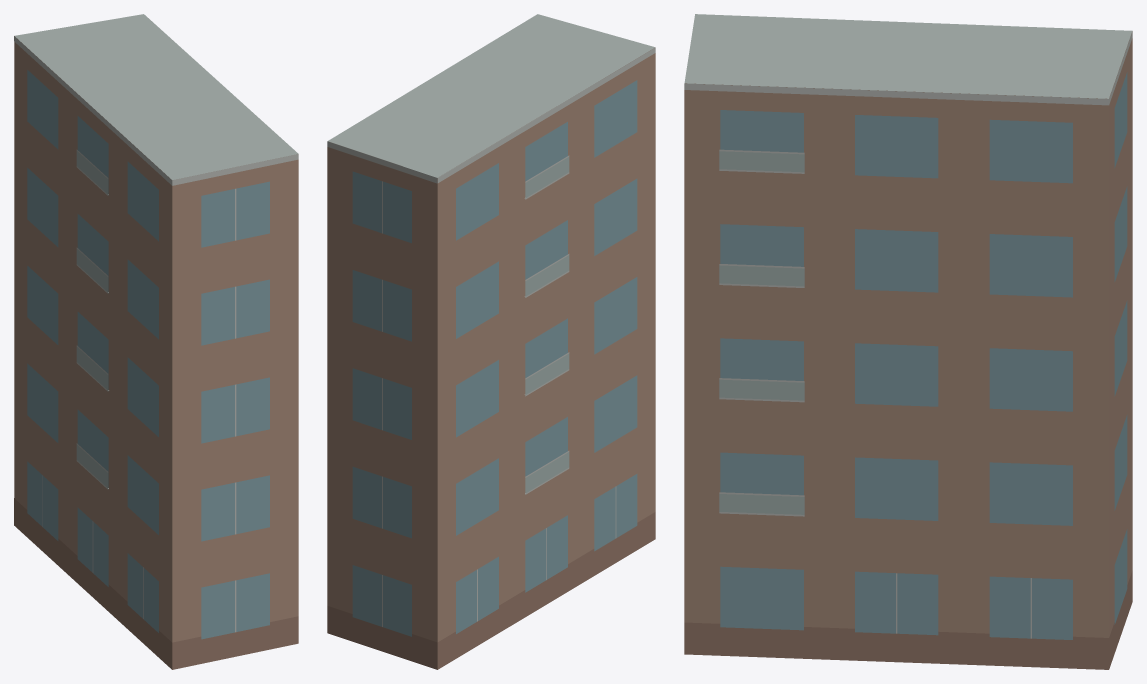
File: survey-upis-32732217.glb
3 renders of one model, left to right at view 1: azimuth 30°, elevation 25°; view 2: azimuth 150°, elevation 25°; view 3: azimuth 270°, elevation 25°, orthographic. The views are drawn at different scales.
Parts seen in each view (by area): view 1: survey-upis-32732217.tmp; view 2: survey-upis-32732217.tmp; view 3: survey-upis-32732217.tmp.
Boxes of the visible parts, x1,y1,x2,y2 form: survey-upis-32732217.tmp: (14, 14, 298, 669); survey-upis-32732217.tmp: (327, 14, 655, 669); survey-upis-32732217.tmp: (684, 14, 1132, 669).
Bounding box in the file's own units: 6.76 × 21.2 × 15.09.
